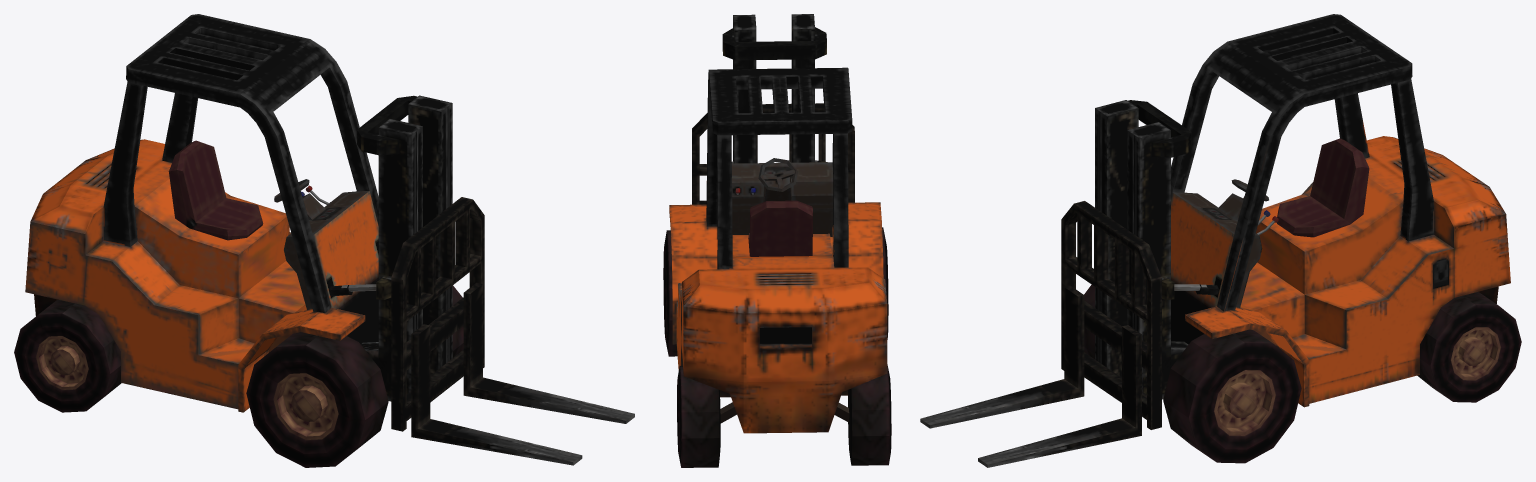
Rendered from ForkLift.fbx.
3 views of the same model, side by side, from view 1: azimuth 30°, elevation 25°; view 2: azimuth 150°, elevation 25°; view 3: azimuth 270°, elevation 25° (orthographic). The views are drawn at different scales.
Visible parts, largest first — view 1: Body, Mast, WheelFR.001, Carriage, WheelRR.001, Seat, PitchL, PitchR, Wing; view 2: Body, Mast, Wing, WheelRL.001, WheelRR.001, Seat, Carriage, WheelFL.001, SteeringWheel, WheelFR.001; view 3: Body, Mast, WheelFL.001, Carriage, WheelRL.001, Seat, PitchR, PitchL, Wing.
Part boxes in pixels (x1=…): Body: x1=25, y1=14, x2=378, y2=409; Mast: x1=357, y1=95, x2=452, y2=401; WheelFR.001: x1=246, y1=332, x2=388, y2=467; Carriage: x1=391, y1=197, x2=484, y2=431; WheelRR.001: x1=14, y1=300, x2=121, y2=412; Seat: x1=168, y1=140, x2=263, y2=240; PitchL: x1=463, y1=282, x2=634, y2=423; PitchR: x1=411, y1=324, x2=582, y2=465; Wing: x1=238, y1=307, x2=365, y2=412; Body: x1=676, y1=67, x2=887, y2=433; Mast: x1=722, y1=14, x2=827, y2=163; Wing: x1=669, y1=202, x2=883, y2=344; WheelRL.001: x1=677, y1=366, x2=720, y2=467; WheelRR.001: x1=848, y1=364, x2=891, y2=465; Seat: x1=748, y1=200, x2=812, y2=256; Carriage: x1=692, y1=103, x2=854, y2=255; WheelFL.001: x1=663, y1=230, x2=677, y2=356; SteeringWheel: x1=758, y1=158, x2=798, y2=191; WheelFR.001: x1=882, y1=227, x2=888, y2=339; Body: x1=1171, y1=14, x2=1510, y2=403; Mast: x1=1095, y1=100, x2=1191, y2=399; WheelFL.001: x1=1163, y1=329, x2=1301, y2=463; Carriage: x1=1061, y1=201, x2=1161, y2=429; WheelRL.001: x1=1417, y1=292, x2=1521, y2=402; Seat: x1=1276, y1=138, x2=1369, y2=237; PitchR: x1=920, y1=285, x2=1084, y2=428; PitchL: x1=978, y1=325, x2=1141, y2=467; Wing: x1=1185, y1=306, x2=1309, y2=407.
Bounding box in the file's own units: 2.17 × 1.73 × 2.81.
